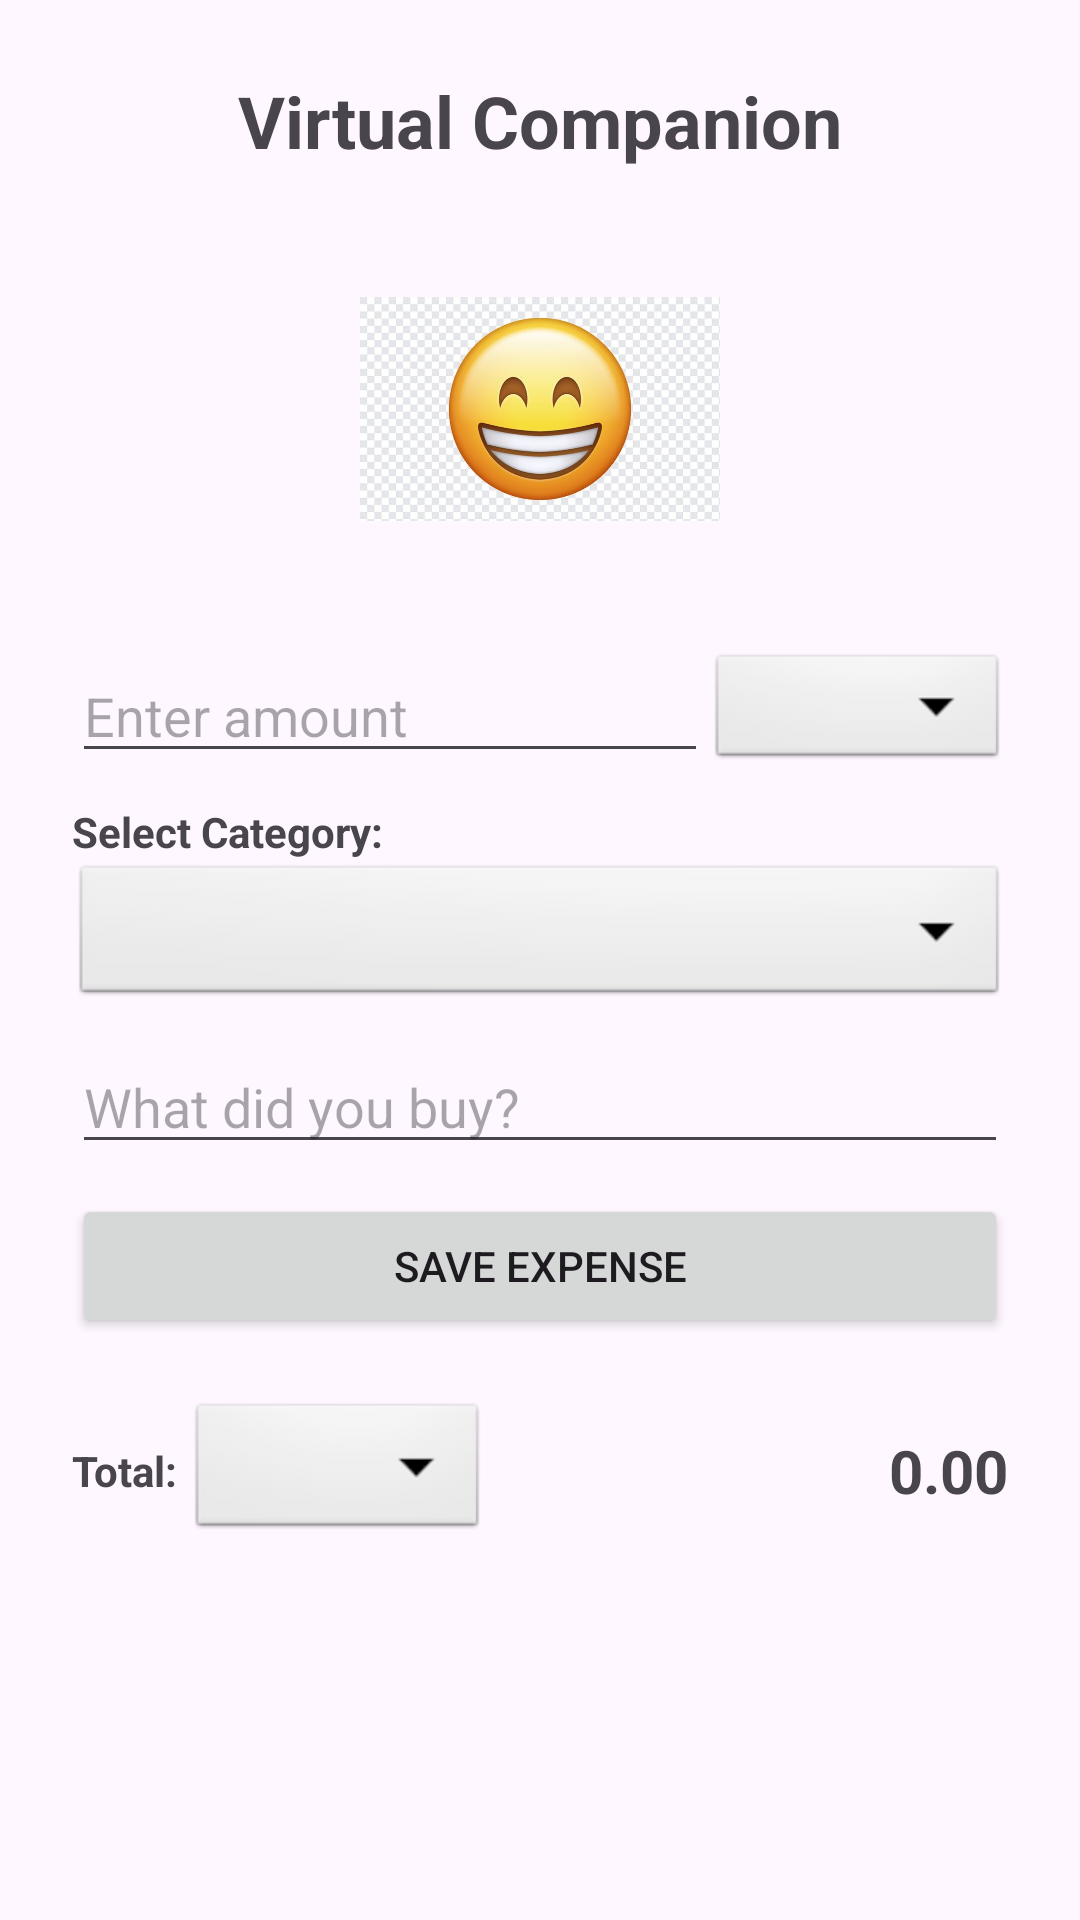

Screen size 1080 × 1920. Icon name, then its center in pixels as (x=x, y=y):
pet happy: (x=540, y=409)
